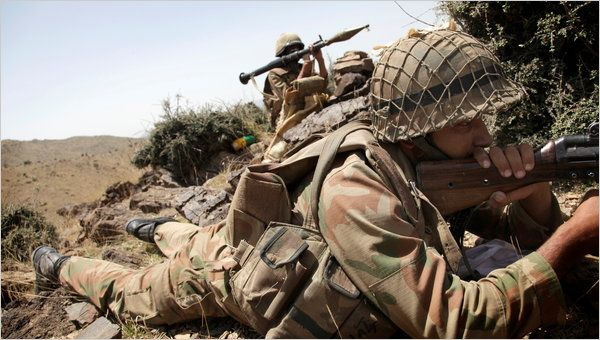gun: (229, 17, 377, 94)
uniform: (10, 54, 565, 319), (250, 1, 357, 155)
